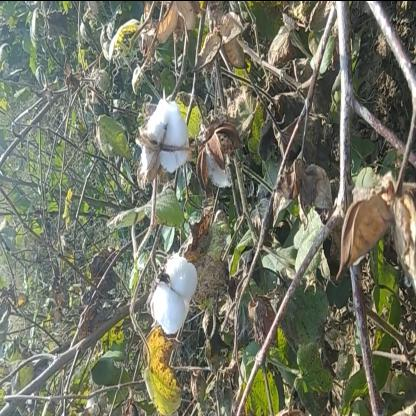cotton_ready: (134, 248, 208, 348), (136, 100, 195, 204)
